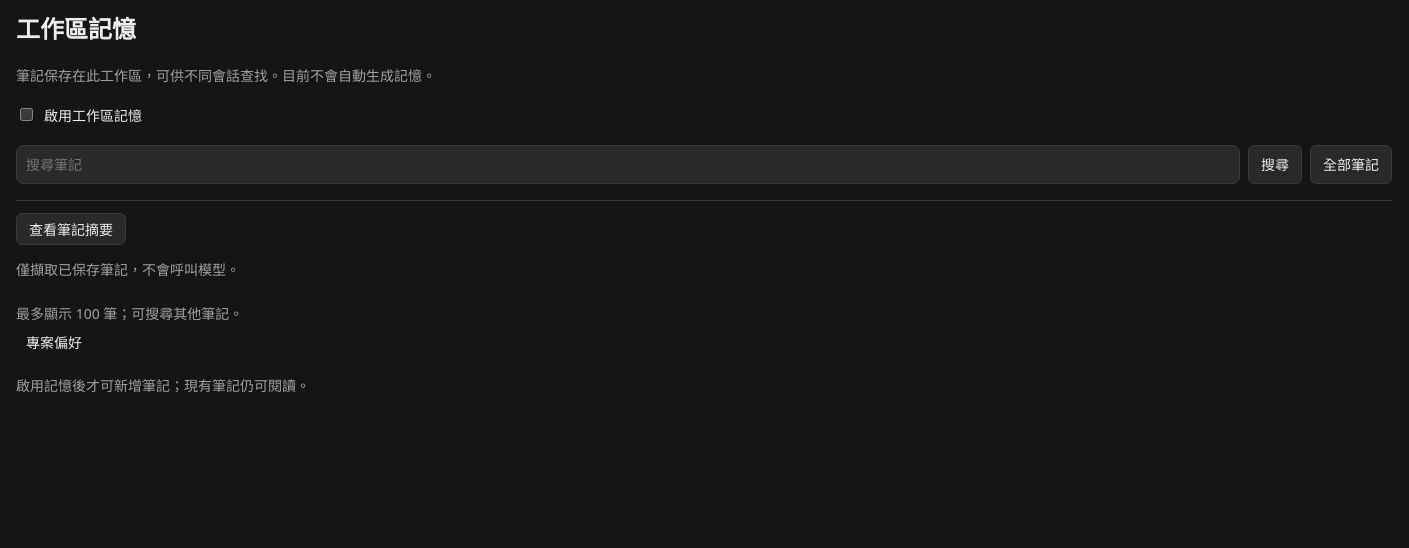
workspace memory › reads existing notes while disabled and scopes all requests
Expected: the text "啟用記憶後才可新增筆記；現有筆記仍可閱讀。" is shown, [16,376,310,395]
Click the button "專案偏好" at [54, 342], box [16,323,692,361]
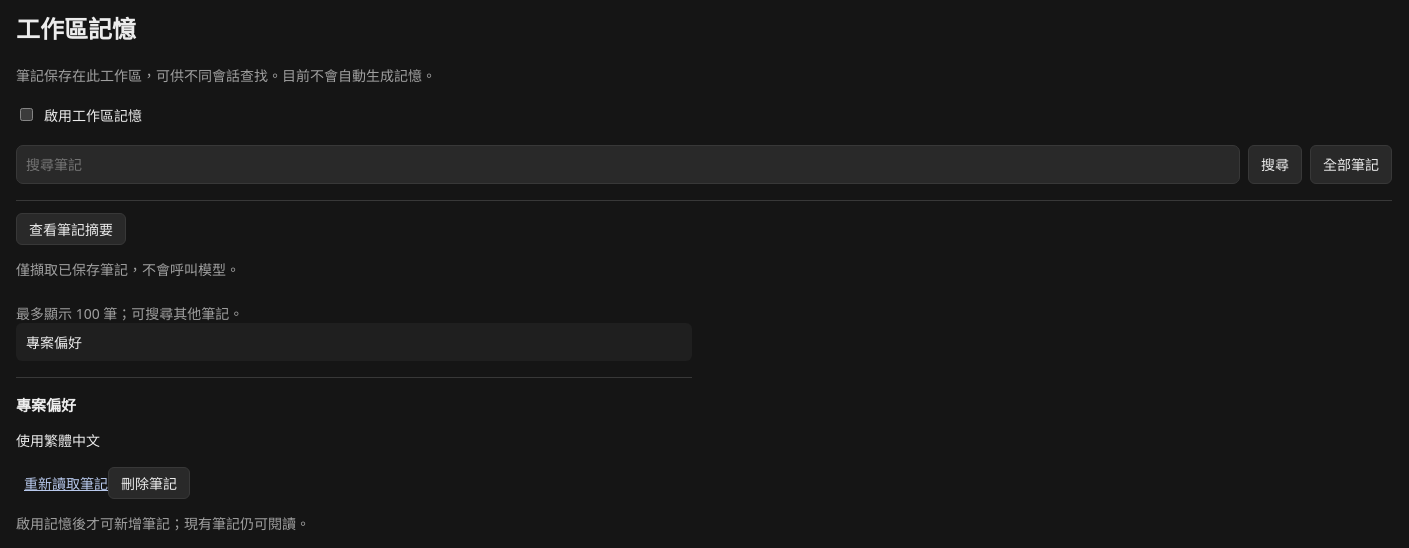
Expected: the text "使用繁體中文" is shown, [16,431,100,450]
